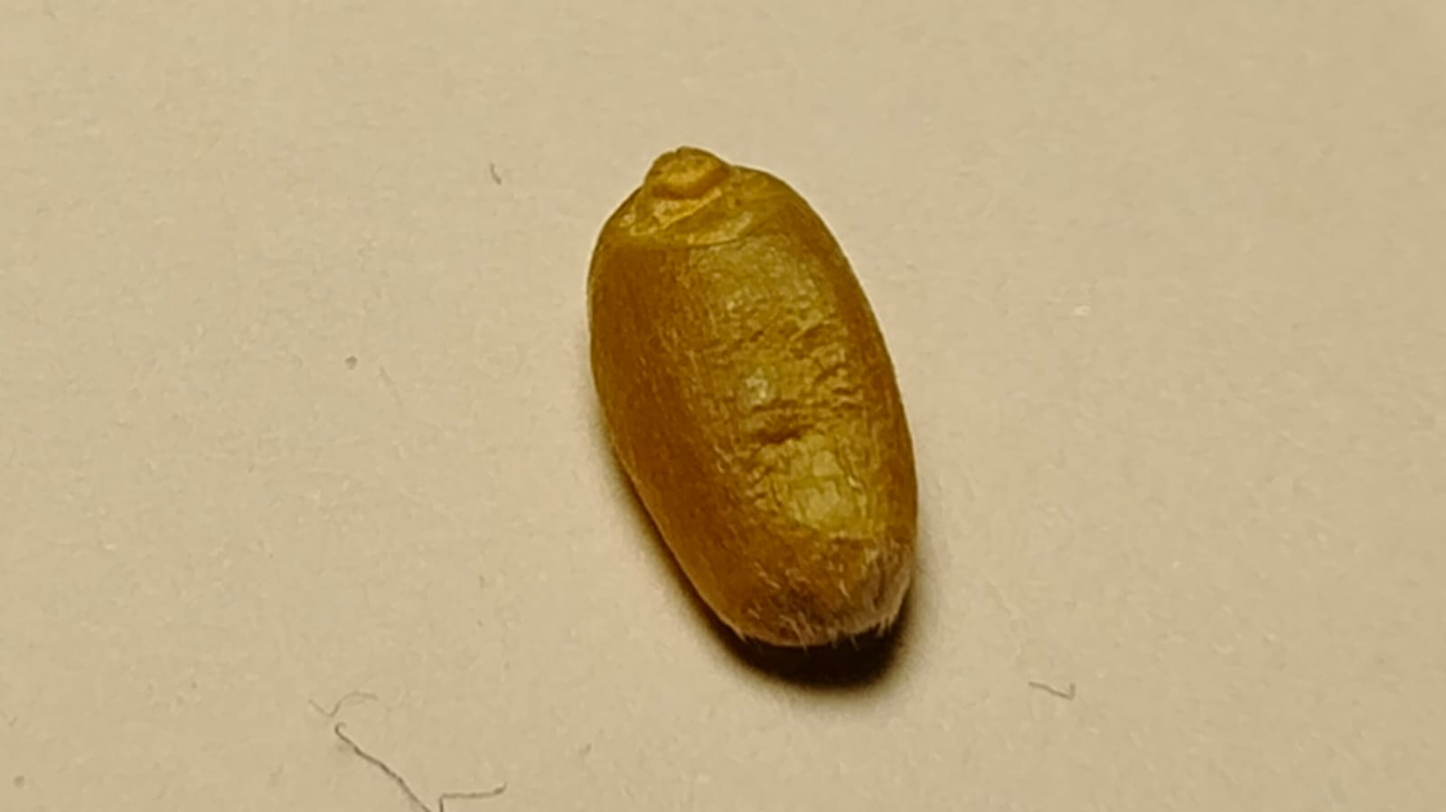healthy: (589, 146, 917, 645)
